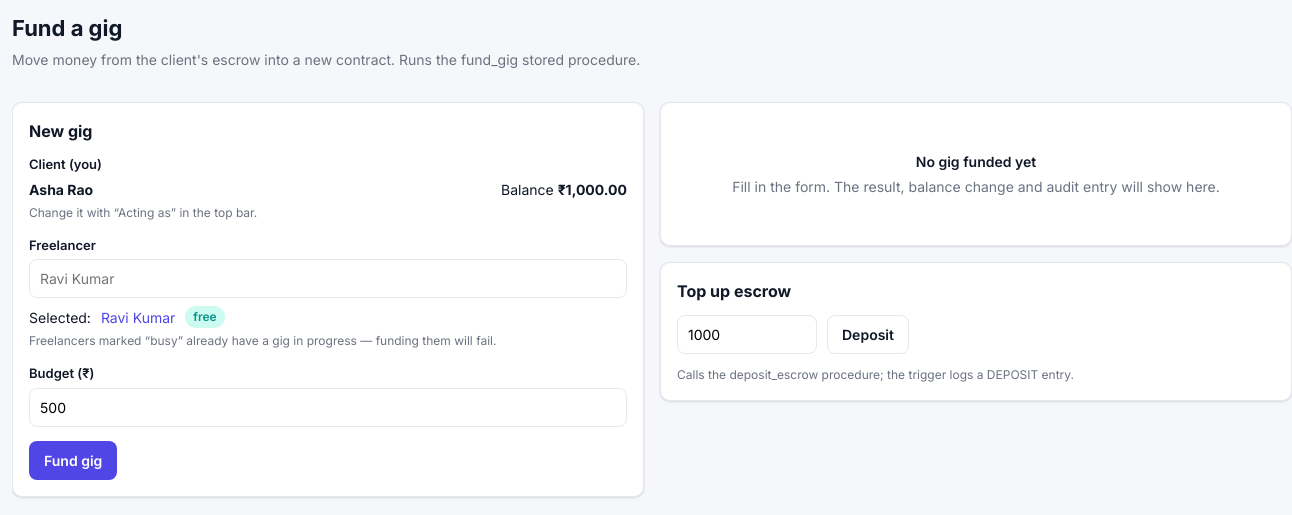
Test: Fund a gig › insufficient balance shows a friendly explanation
expect the link "Ravi Kumar" is shown: met, box [101,306,175,328]
Replace the text in the number field named "Budget" with "5000" at (328,407), box [29,388,627,426]
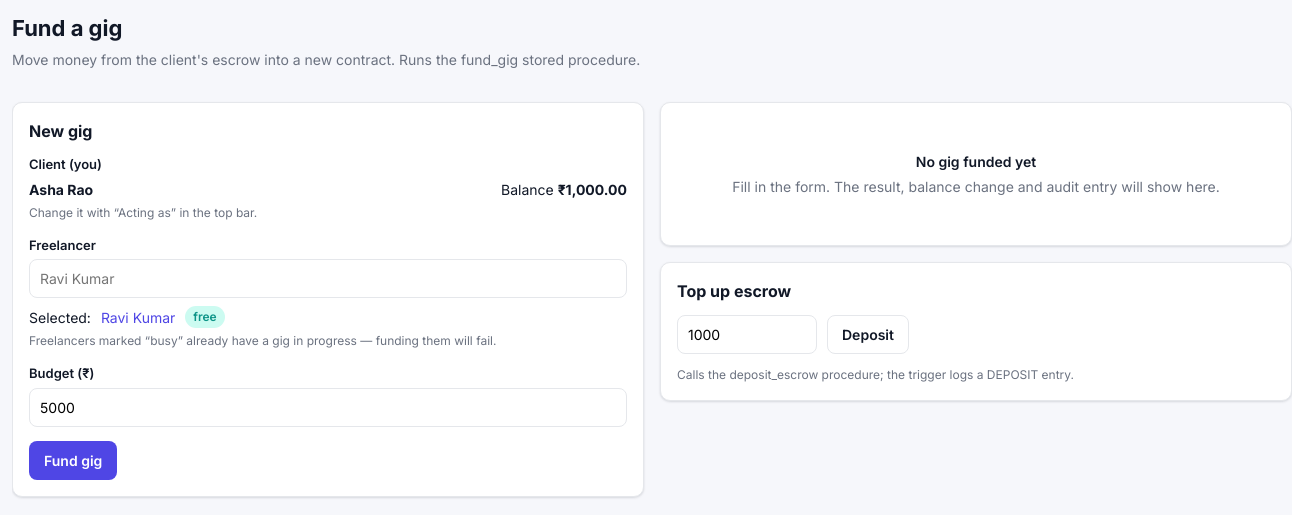
Click the button "Fund gig" at (73,460), box [29,440,117,480]
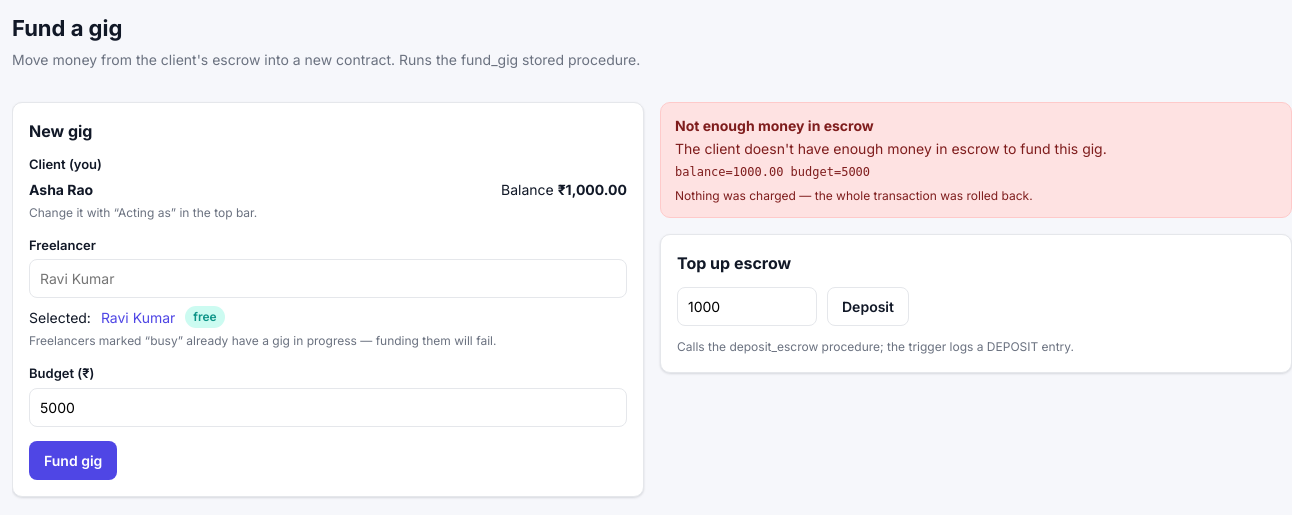
expect the text "Not enough money in escrow" is shown: met, box [675,117,874,134]
expect the text "Nothing was charged — the whole transaction was rolled back." is shown: met, box [675,188,1033,203]
expect the text "gig funded" is gone: met
